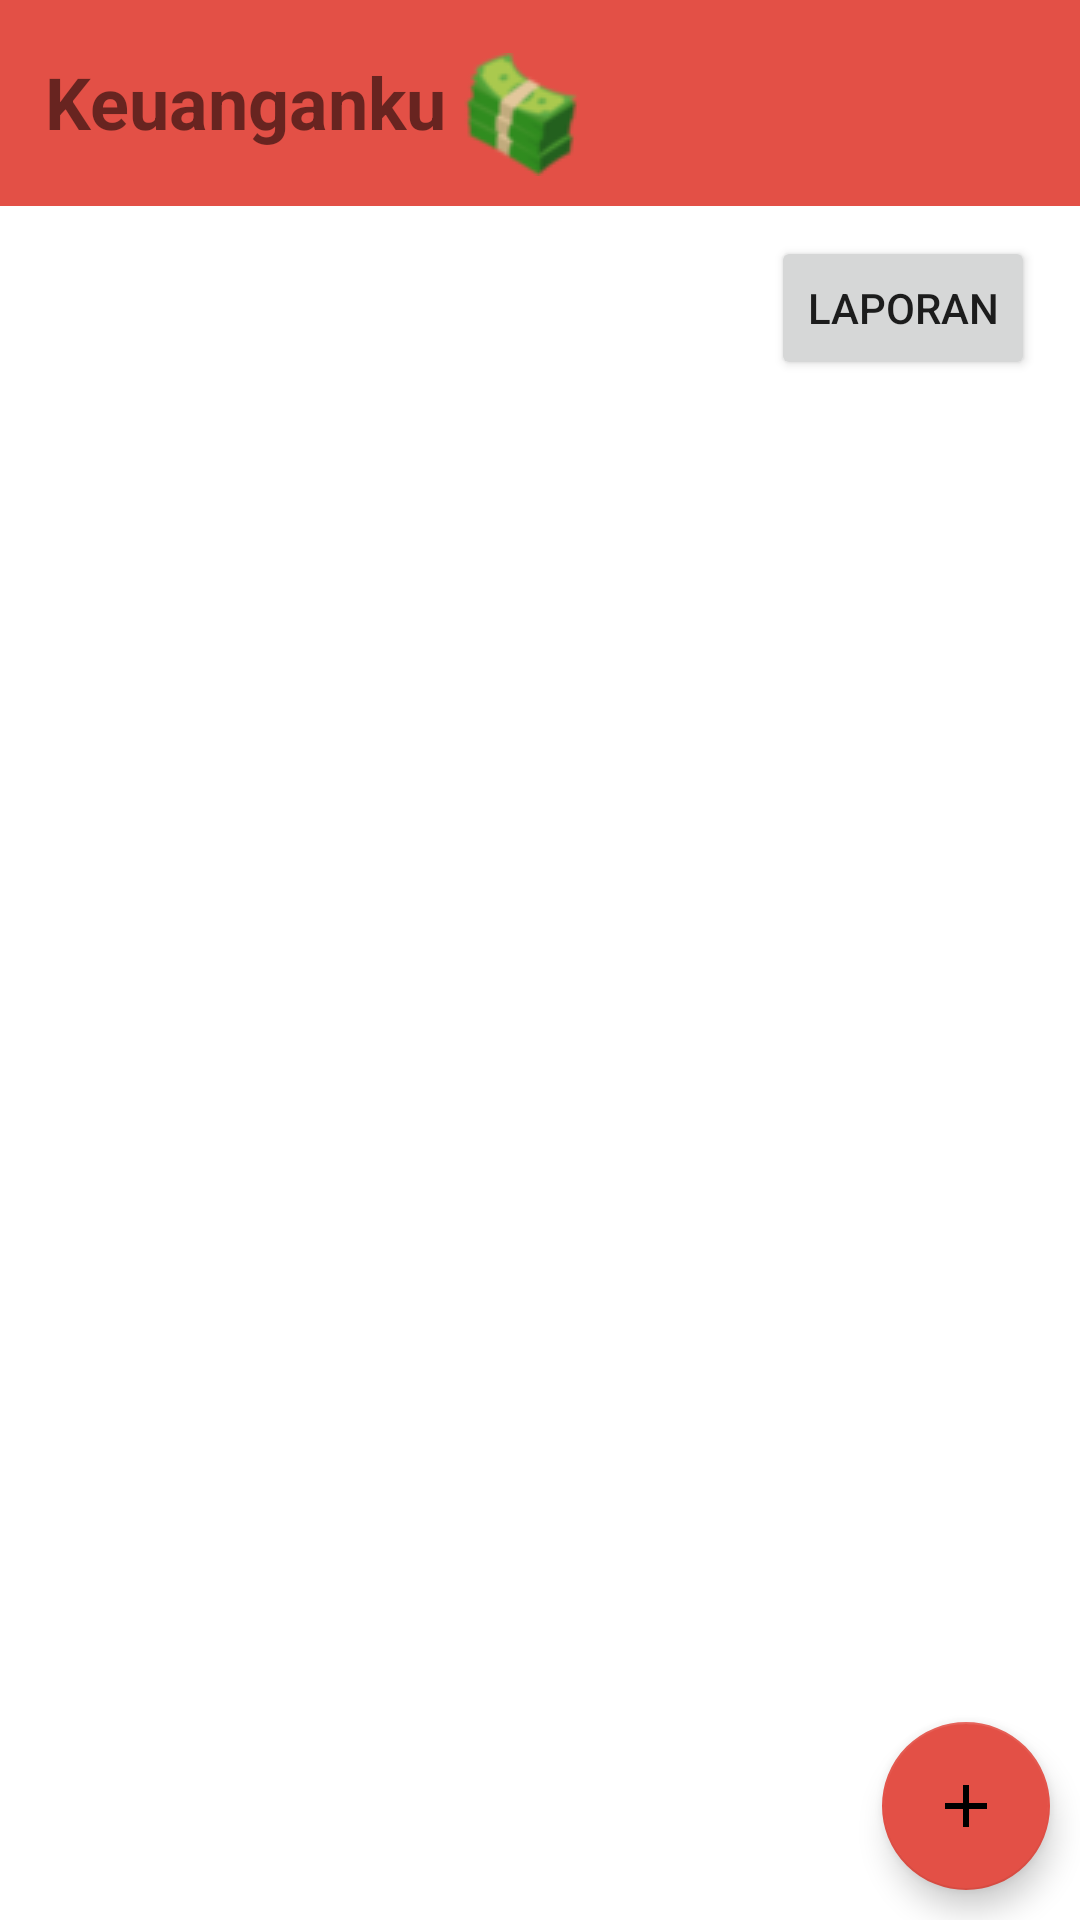

Icons on this 1080×1920 Android screen, each with its box as box(x1, y1, x2, y2):
add: box(882, 1722, 1050, 1890)
money: box(466, 53, 577, 176)
